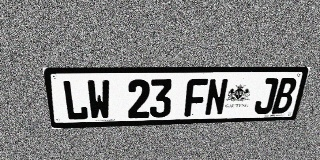2: (128, 79, 150, 119)
3: (150, 79, 172, 118)
B: (271, 78, 298, 114)
F: (184, 79, 208, 117)
J: (253, 78, 279, 114)
L: (61, 80, 89, 121)
N: (204, 78, 229, 116)
W: (86, 80, 111, 120)
